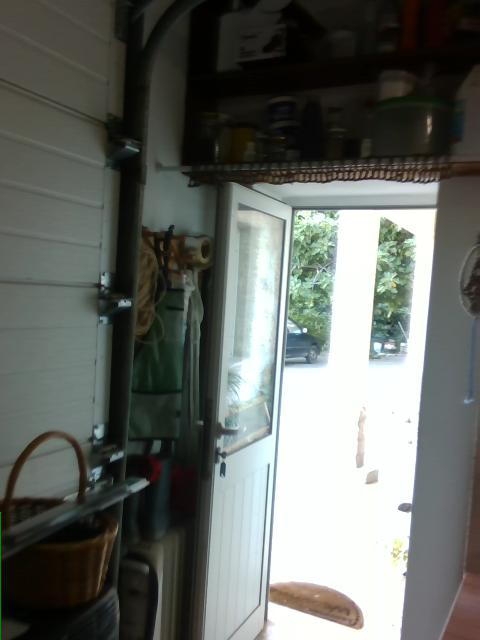open_door: (242, 197, 438, 638)
